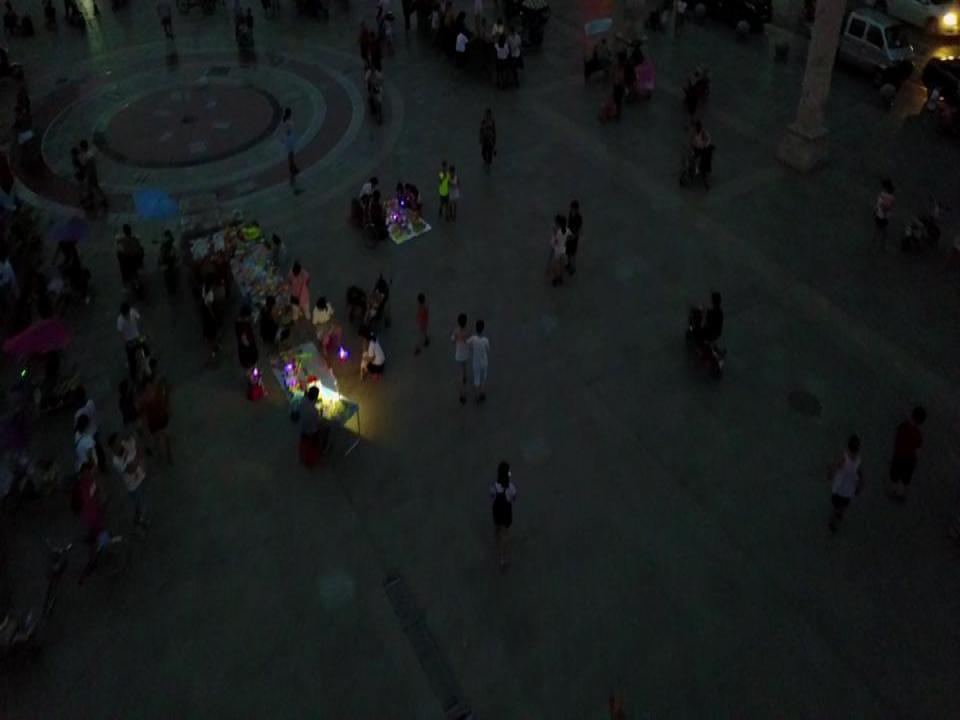truck: (808, 8, 914, 84)
